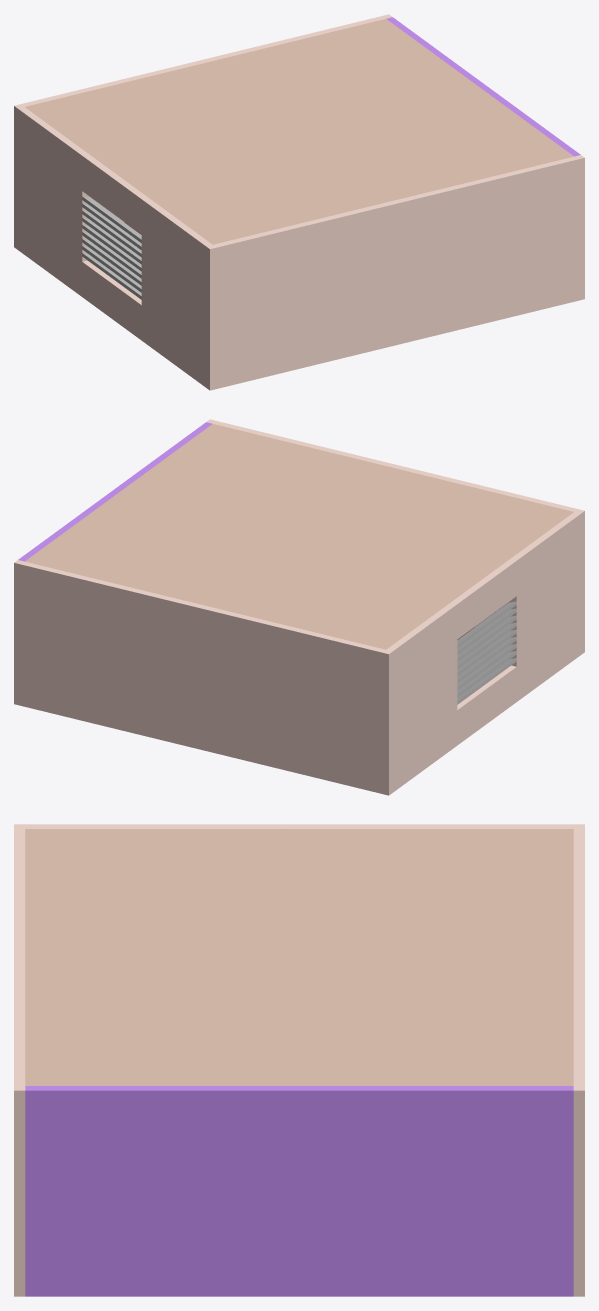
Rendered from House3.fbx.
The picture shows the model from 3 angles, top to bottom: view 1: azimuth 30°, elevation 25°; view 2: azimuth 150°, elevation 25°; view 3: azimuth 270°, elevation 25°; orthographic projection. The views are drawn at different scales.
Parts seen in each view (by area): view 1: Walls, Roof, Blinders; view 2: Walls, Roof, Blinders; view 3: Roof, Walls.
Boxes of the visible parts, x1,y1,x2,y2 form: Walls: [14, 14, 584, 390]; Roof: [25, 19, 573, 244]; Blinders: [82, 196, 141, 299]; Walls: [14, 419, 584, 795]; Roof: [25, 424, 573, 649]; Blinders: [457, 601, 516, 704]; Roof: [25, 829, 573, 1085]; Walls: [14, 824, 584, 1296].
Size of the model in its own units: 2220 by 800 by 2010.
